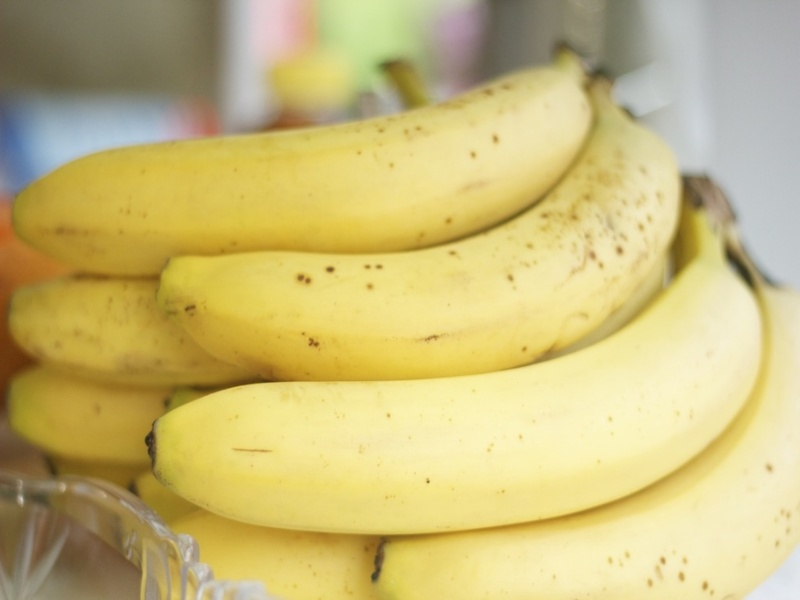banana: (10, 47, 794, 600)
